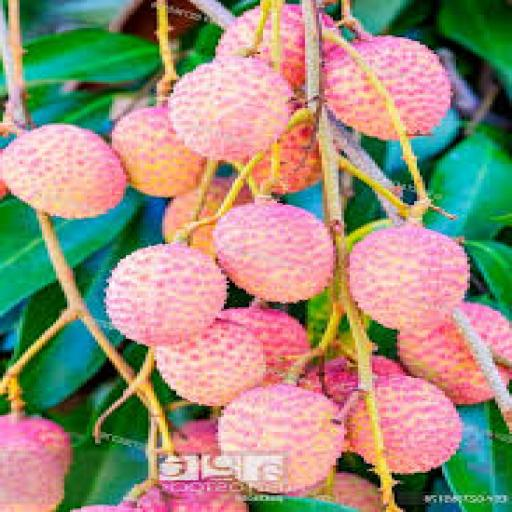lychee: (218, 384, 343, 493), (167, 58, 292, 161), (349, 226, 469, 329), (106, 244, 225, 346), (212, 202, 331, 303), (0, 125, 124, 217), (352, 36, 449, 135), (153, 321, 264, 405), (111, 107, 203, 197), (374, 377, 460, 472), (397, 323, 491, 404), (0, 416, 68, 511), (218, 306, 309, 370), (290, 472, 382, 511), (271, 123, 320, 195), (137, 481, 248, 511), (299, 358, 357, 404), (324, 473, 382, 511), (279, 4, 303, 87), (162, 190, 197, 242), (173, 419, 217, 454), (69, 505, 136, 511), (0, 179, 7, 199)
